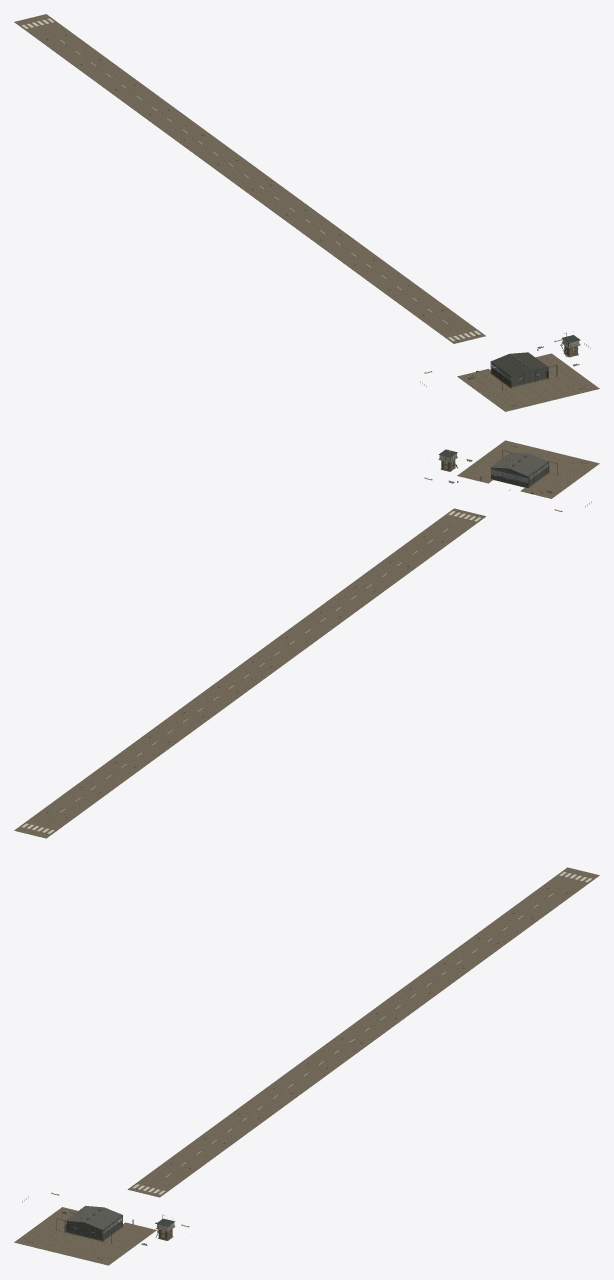
The model's file is Bloedjungle_Airfield_HQ_2_2_LOD1.glb.
3 renders of one model, top to bottom at view 1: azimuth 30°, elevation 25°; view 2: azimuth 150°, elevation 25°; view 3: azimuth 330°, elevation 25°, orthographic.
Parts seen in each view (by area): view 1: Airfield Apron 100m section, Airfield Runway_05 100m section, Airfield Runway_00 100m section, Airfield Runway_02 100m section, Airfield Runway_07 100m section, Airfield Runway_04 100m section, Airfield Runway_01 100m section, Airfield Runway_03 100m section, Airfield Runway_06 100m section, Airfield Runway_08 100m section, Hangar HQ 22; view 2: Airfield Apron 100m section, Airfield Runway_05 100m section, Airfield Runway_02 100m section, Airfield Runway_04 100m section, Airfield Runway_07 100m section, Airfield Runway_01 100m section, Airfield Runway_06 100m section, Airfield Runway_00 100m section, Airfield Runway_03 100m section, Hangar HQ 22, Airfield Runway_08 100m section; view 3: Airfield Apron 100m section, Airfield Runway_05 100m section, Airfield Runway_07 100m section, Airfield Runway_02 100m section, Airfield Runway_00 100m section, Airfield Runway_06 100m section, Airfield Runway_01 100m section, Airfield Runway_04 100m section, Airfield Runway_03 100m section, Airfield Runway_08 100m section, Hangar HQ 22.
Boxes of the visible parts, x1=… form: Airfield Apron 100m section: x1=457, y1=353, x2=599, y2=411; Airfield Runway_05 100m section: x1=156, y1=118, x2=241, y2=164; Airfield Runway_00 100m section: x1=405, y1=300, x2=485, y2=343; Airfield Runway_02 100m section: x1=307, y1=228, x2=387, y2=272; Airfield Runway_07 100m section: x1=58, y1=46, x2=138, y2=89; Airfield Runway_04 100m section: x1=210, y1=157, x2=290, y2=200; Airfield Runway_01 100m section: x1=356, y1=264, x2=436, y2=307; Airfield Runway_03 100m section: x1=258, y1=193, x2=338, y2=236; Airfield Runway_06 100m section: x1=107, y1=82, x2=187, y2=125; Airfield Runway_08 100m section: x1=14, y1=14, x2=89, y2=53; Hangar HQ 22: x1=490, y1=352, x2=557, y2=390; Airfield Apron 100m section: x1=457, y1=440, x2=599, y2=498; Airfield Runway_05 100m section: x1=156, y1=687, x2=241, y2=734; Airfield Runway_02 100m section: x1=307, y1=580, x2=388, y2=623; Airfield Runway_04 100m section: x1=210, y1=651, x2=290, y2=695; Airfield Runway_07 100m section: x1=58, y1=762, x2=138, y2=806; Airfield Runway_01 100m section: x1=357, y1=544, x2=437, y2=587; Airfield Runway_06 100m section: x1=107, y1=727, x2=187, y2=770; Airfield Runway_00 100m section: x1=405, y1=508, x2=485, y2=551; Airfield Runway_03 100m section: x1=259, y1=616, x2=339, y2=659; Hangar HQ 22: x1=490, y1=450, x2=557, y2=487; Airfield Runway_08 100m section: x1=14, y1=798, x2=89, y2=838; Airfield Apron 100m section: x1=14, y1=1207, x2=156, y2=1265; Airfield Runway_05 100m section: x1=372, y1=971, x2=457, y2=1018; Airfield Runway_07 100m section: x1=475, y1=899, x2=555, y2=942; Airfield Runway_02 100m section: x1=225, y1=1082, x2=306, y2=1125; Airfield Runway_00 100m section: x1=127, y1=1154, x2=208, y2=1197; Airfield Runway_06 100m section: x1=426, y1=935, x2=506, y2=978; Airfield Runway_01 100m section: x1=176, y1=1118, x2=256, y2=1161; Airfield Runway_04 100m section: x1=323, y1=1010, x2=403, y2=1054; Airfield Runway_03 100m section: x1=274, y1=1046, x2=354, y2=1089; Airfield Runway_08 100m section: x1=524, y1=867, x2=599, y2=907; Hangar HQ 22: x1=56, y1=1205, x2=123, y2=1243.
Size of the model in its own units: 190 by 23.33 by 1058.
Materials: 12 (5 with a texture image).
